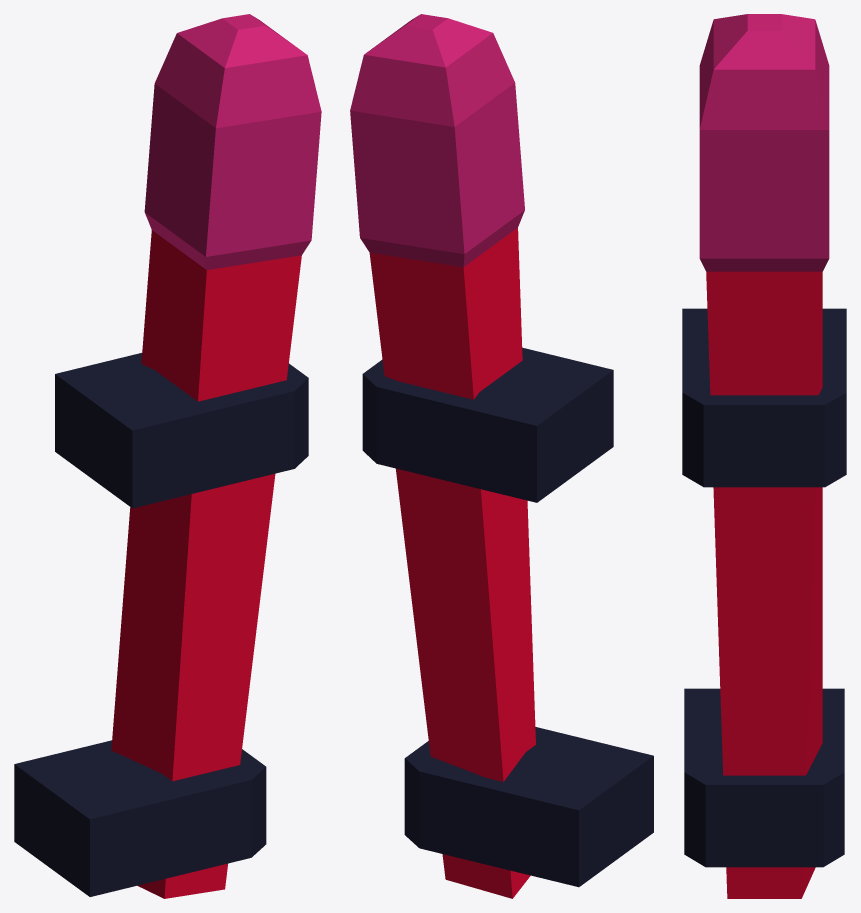
The model's file is c_torch.glb.
3 views of the same model, side by side, from view 1: azimuth 30°, elevation 25°; view 2: azimuth 150°, elevation 25°; view 3: azimuth 270°, elevation 25° (orthographic). The views are drawn at different scales.
Visible parts, largest first — view 1: C_Torch; view 2: C_Torch; view 3: C_Torch.
Part boxes in pixels (bbox=[...]): C_Torch: bbox=[14, 14, 321, 898]; C_Torch: bbox=[350, 14, 653, 898]; C_Torch: bbox=[682, 14, 846, 898].
Size of the model in its own units: 0.2062 by 0.6987 by 0.1159.
1 material, 1 textured.
